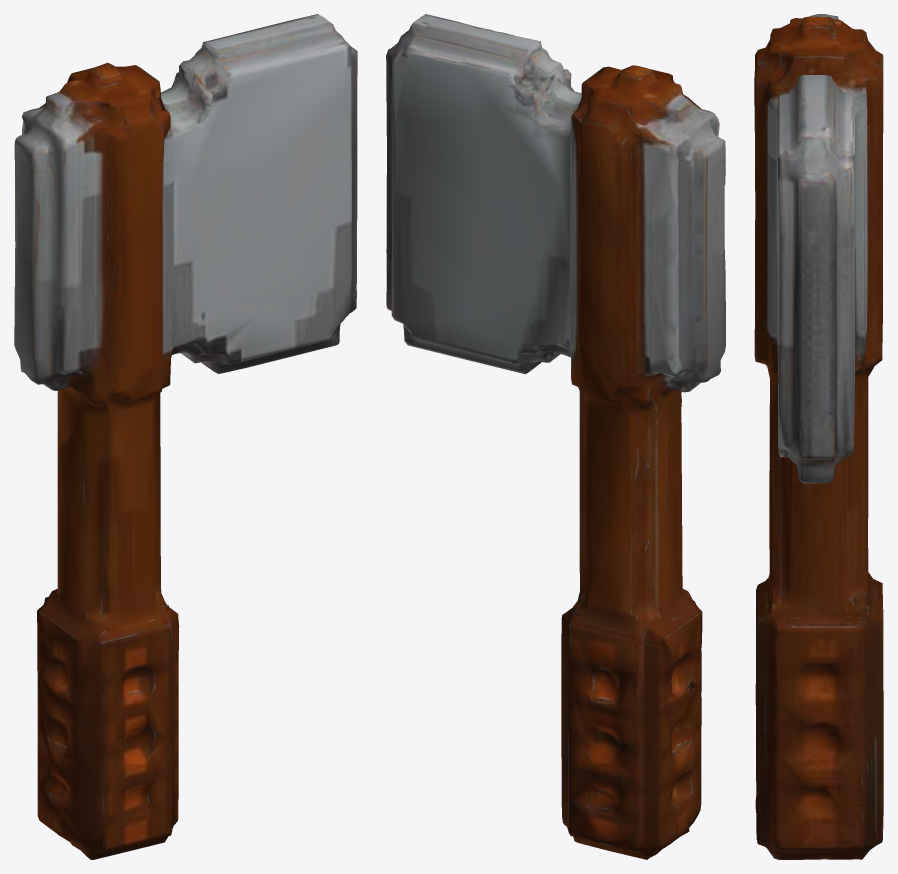
Rendered from war_axe.glb.
The picture shows the model from 3 angles, left to right: view 1: azimuth 30°, elevation 25°; view 2: azimuth 150°, elevation 25°; view 3: azimuth 270°, elevation 25°; orthographic projection. The views are drawn at different scales.
Visible parts, largest first — view 1: war axe; view 2: war axe; view 3: war axe.
Boxes of the visible parts, <box> form: war axe: <box>14,14,357,859</box>; war axe: <box>386,14,725,859</box>; war axe: <box>754,14,883,859</box>.
Size of the model in its own units: 0.2009 by 0.4525 by 0.0646.
Materials: 1 (1 with a texture image).
